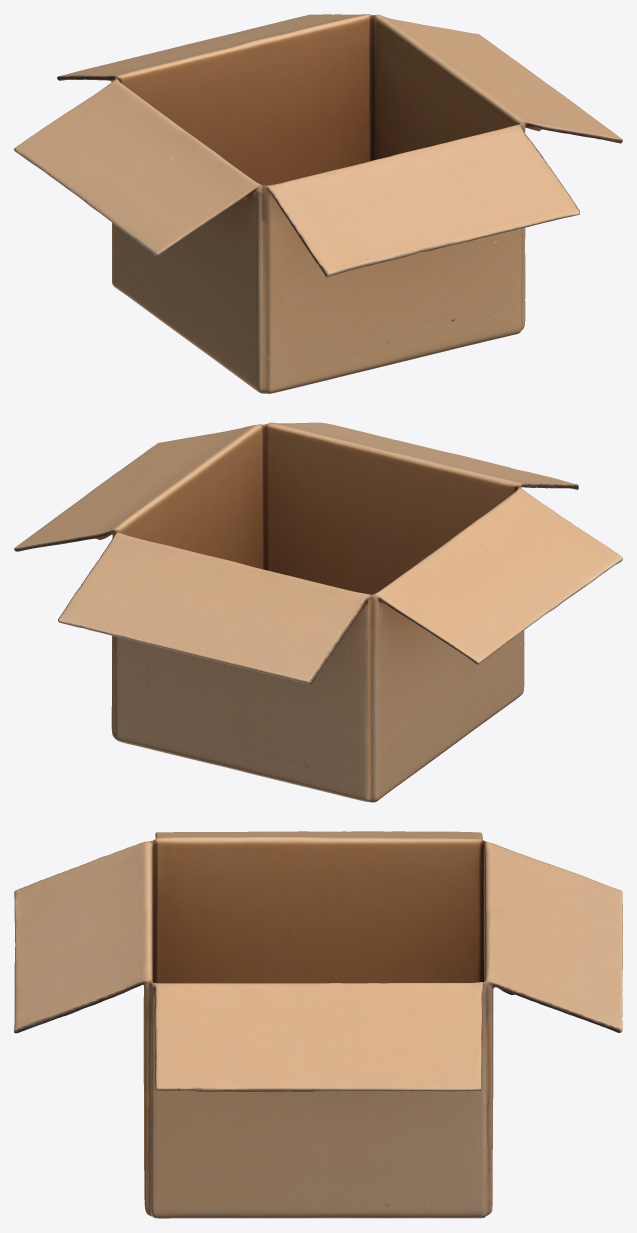
Rendered from carton-split-v2.glb.
The picture shows the model from 3 angles, top to bottom: view 1: azimuth 30°, elevation 25°; view 2: azimuth 150°, elevation 25°; view 3: azimuth 270°, elevation 25°; orthographic projection. The views are drawn at different scales.
Parts seen in each view (by area): view 1: 오브젝트, 오브젝트.004, 오브젝트.001, 오브젝트.003, 오브젝트.002; view 2: 오브젝트, 오브젝트.002, 오브젝트.001, 오브젝트.003, 오브젝트.004; view 3: 오브젝트, 오브젝트.003, 오브젝트.002, 오브젝트.004, 오브젝트.001.
Part boxes in pixels (x1,y1,x2,y2): 오브젝트: (112,26,525,393); 오브젝트.004: (262,125,579,277); 오브젝트.001: (14,75,270,257); 오브젝트.003: (374,15,622,143); 오브젝트.002: (57,14,382,87); 오브젝트: (111,435,524,802); 오브젝트.002: (58,527,372,684); 오브젝트.001: (365,483,622,664); 오브젝트.003: (14,423,274,551); 오브젝트.004: (264,422,578,495); 오브젝트: (143,850,493,1218); 오브젝트.003: (146,977,485,1092); 오브젝트.002: (475,842,622,1032); 오브젝트.004: (14,841,153,1033); 오브젝트.001: (146,831,490,856).
Size of the model in its own units: 2 by 0.863 by 2.
Materials: 1 (1 with a texture image).
